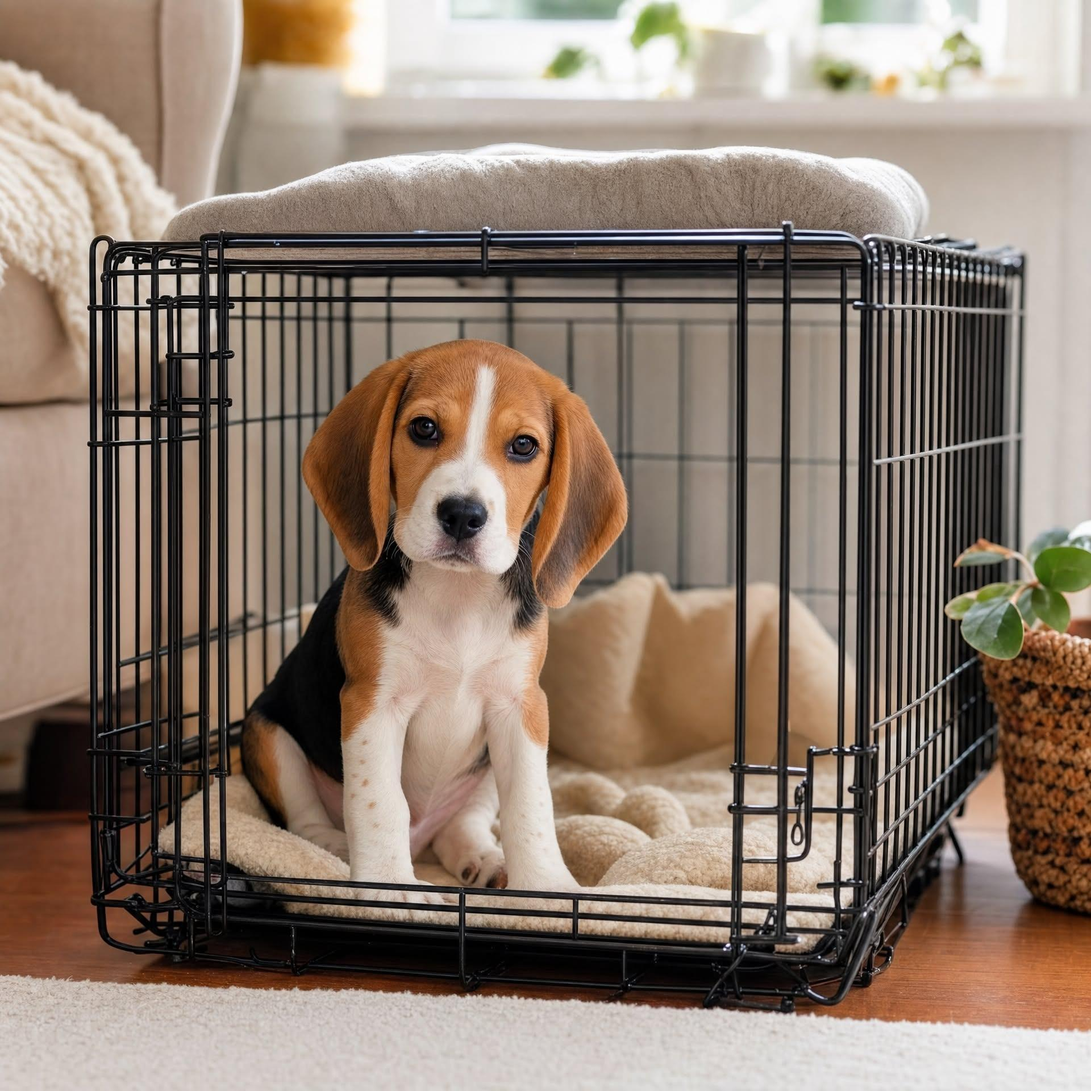puppy-dog: (239, 338, 627, 912)
